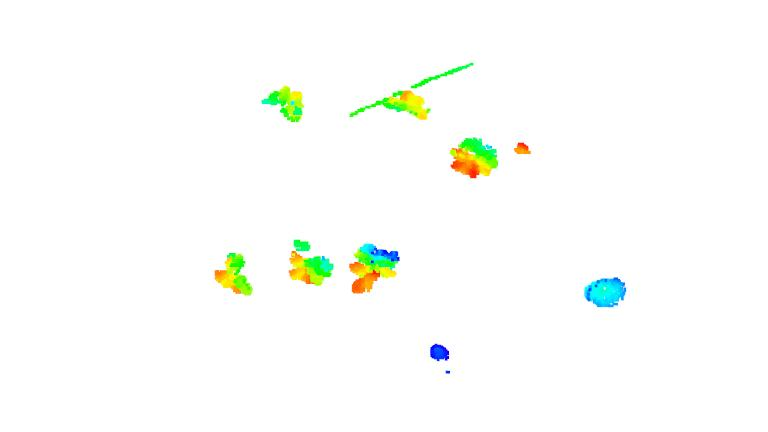chickpea: (345, 240, 401, 296), (210, 247, 259, 298), (287, 236, 333, 288), (449, 134, 499, 178), (261, 85, 307, 125), (379, 88, 436, 119)
